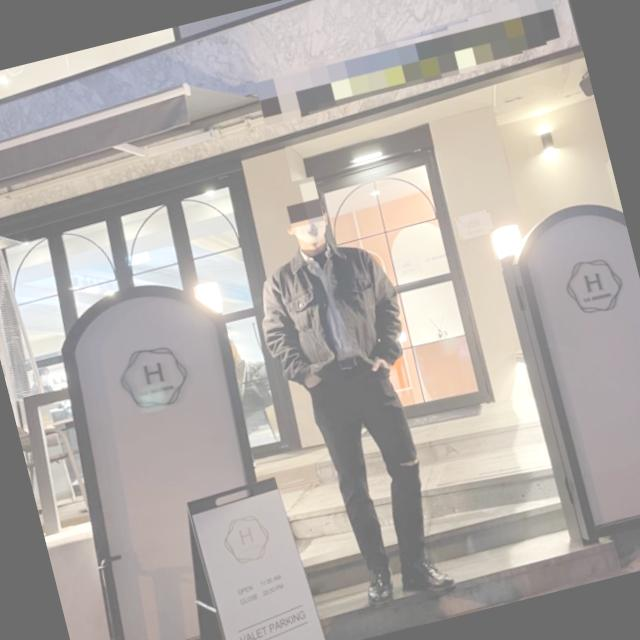denimpants: (304, 355, 442, 582)
jacket: (245, 226, 414, 396)
